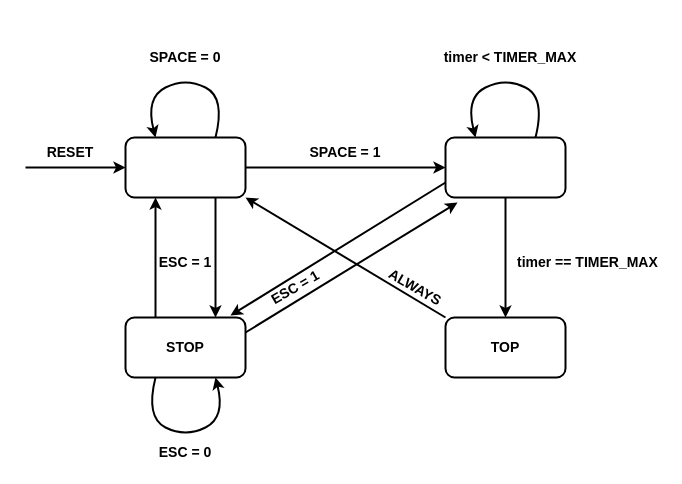
Some shapes in this 682 by 484 pixel diagram are drawn without their labels. The shapes that lost their labels are listed below. From the top down, each one's centre as x and y in pixels, then its label:
At pixel 185 167: "DOWN".
At pixel 505 167: "UP".
